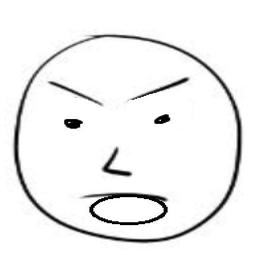frowning_eyebrow: (124, 73, 193, 102), (48, 79, 104, 109)
open_mouth: (85, 191, 174, 228)
pointy_nose: (96, 146, 136, 179)
small_eye: (58, 112, 87, 135), (154, 112, 173, 125)
